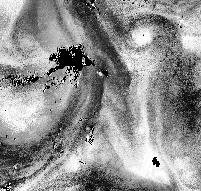CE: (120, 11, 163, 53)
